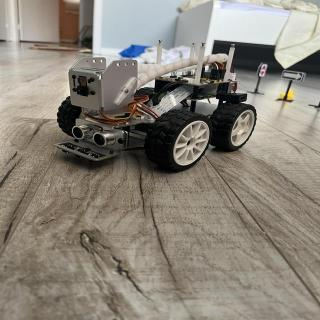duck_regular: (281, 88, 297, 104)
sign_noentry: (259, 64, 270, 81)
sign_oneway_right: (281, 69, 306, 85)
vehicle: (54, 40, 259, 173)
